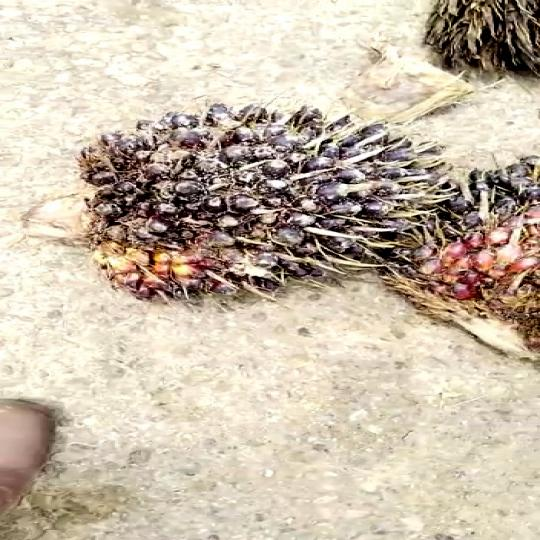mentah: (44, 97, 471, 305)
